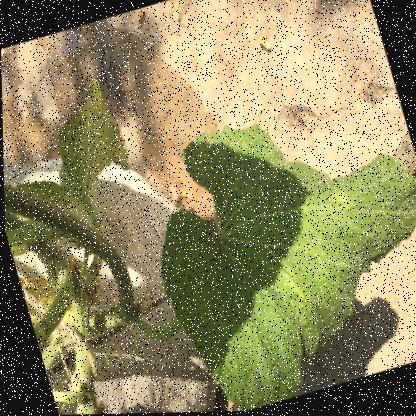Normal: (146, 79, 415, 395)
